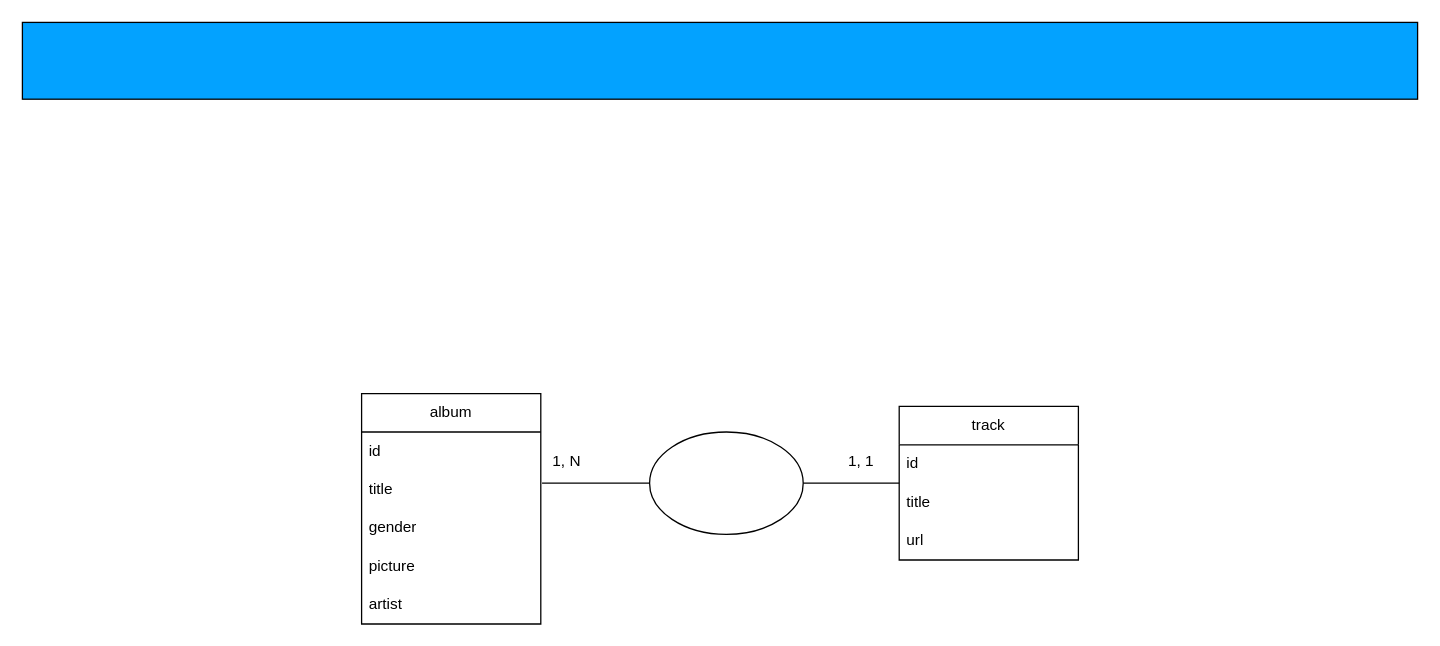
Some shapes in this 1440 by 646 pixel diagram are drawn without their labels. Here are the shapes that lost their labels. From the top down, the centre of each, then its label:
At point (719, 60): "Modèle Conceptuel de Données".
At point (725, 482): "appartenir".
